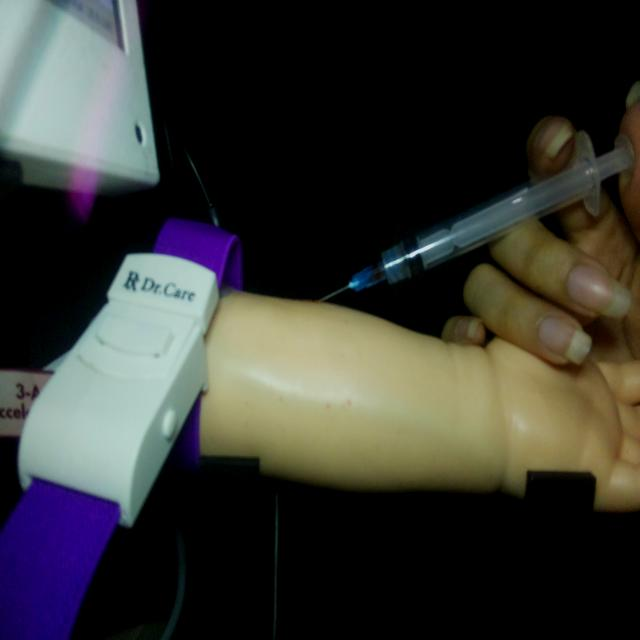17 degrees: (315, 127, 635, 305)
